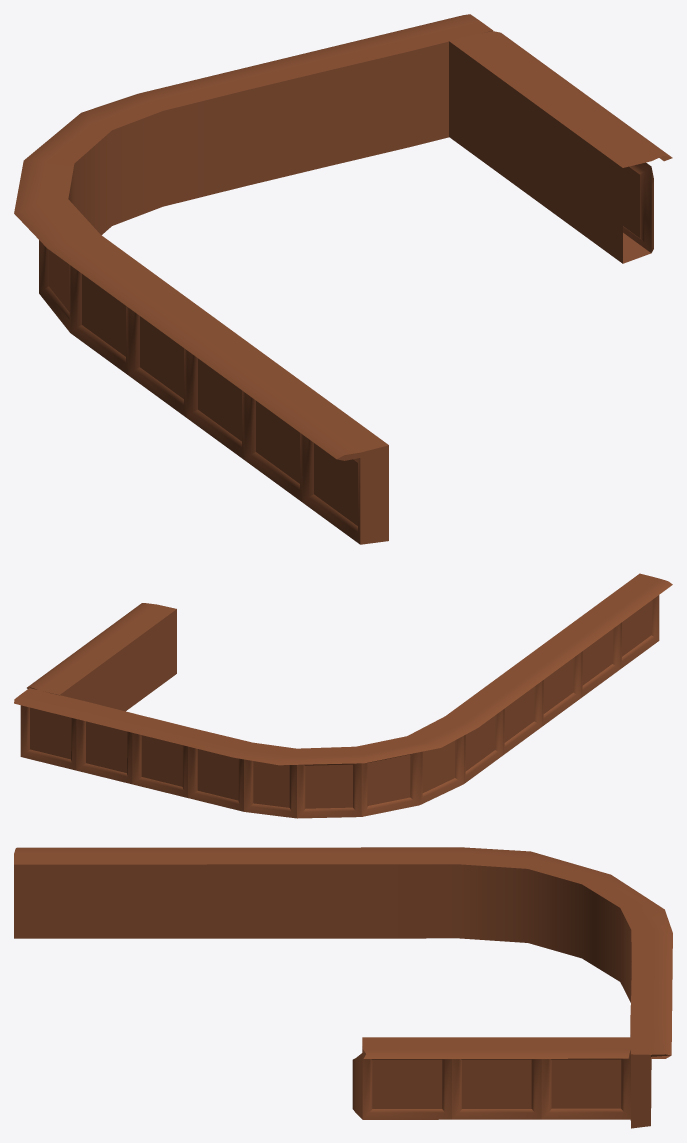
The model's file is diner_interior.glb.
3 views of the same model, one above another, from view 1: azimuth 30°, elevation 25°; view 2: azimuth 150°, elevation 25°; view 3: azimuth 270°, elevation 25° (orthographic). The views are drawn at different scales.
Visible parts, largest first — view 1: diner_bar; view 2: diner_bar; view 3: diner_bar.
Part boxes in pixels (<box>): diner_bar: <box>14,14,672,544</box>; diner_bar: <box>14,573,672,818</box>; diner_bar: <box>14,847,672,1128</box>.
Bounding box in the file's own units: 6.23 × 1.02 × 8.19.
